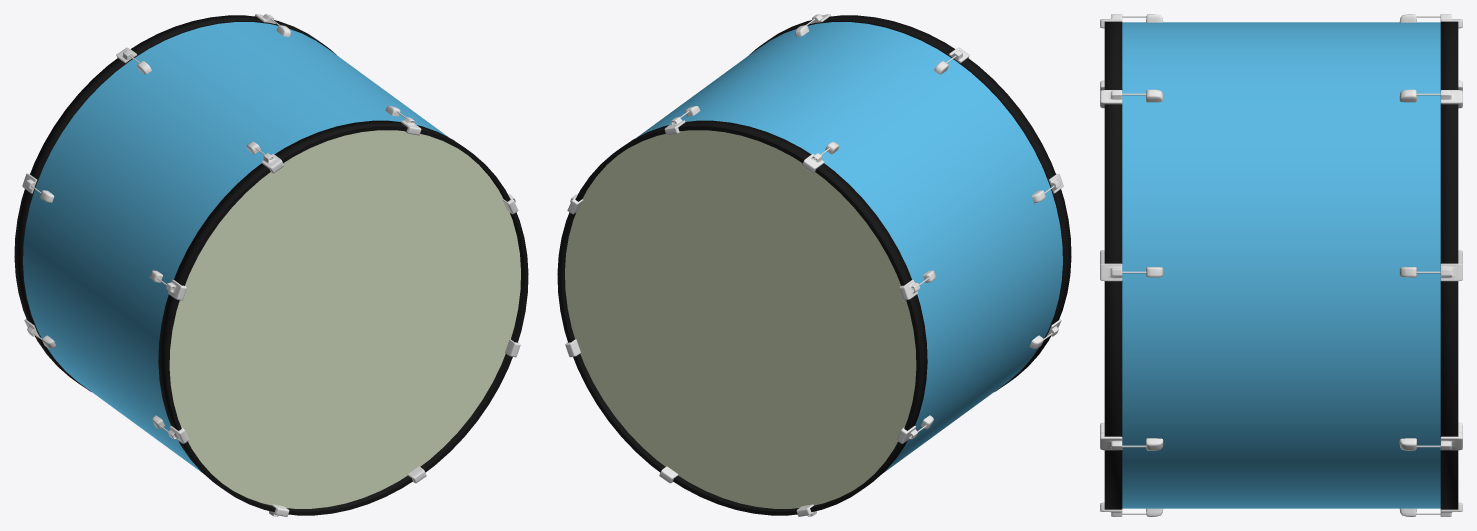
File: Bass Drum Model.fbx
3 renders of one model, left to right at view 1: azimuth 30°, elevation 25°; view 2: azimuth 150°, elevation 25°; view 3: azimuth 270°, elevation 25°, orthographic. The views are drawn at different scales.
Parts seen in each view (by area): view 1: Bass Drum; view 2: Bass Drum; view 3: Bass Drum.
Boxes of the visible parts, left/top/right/bottom form: Bass Drum: left=14, top=14, right=528, bottom=516; Bass Drum: left=557, top=14, right=1071, bottom=516; Bass Drum: left=1100, top=14, right=1462, bottom=516.
Size of the model in its own units: 0.5527 by 0.5527 by 0.4101.
